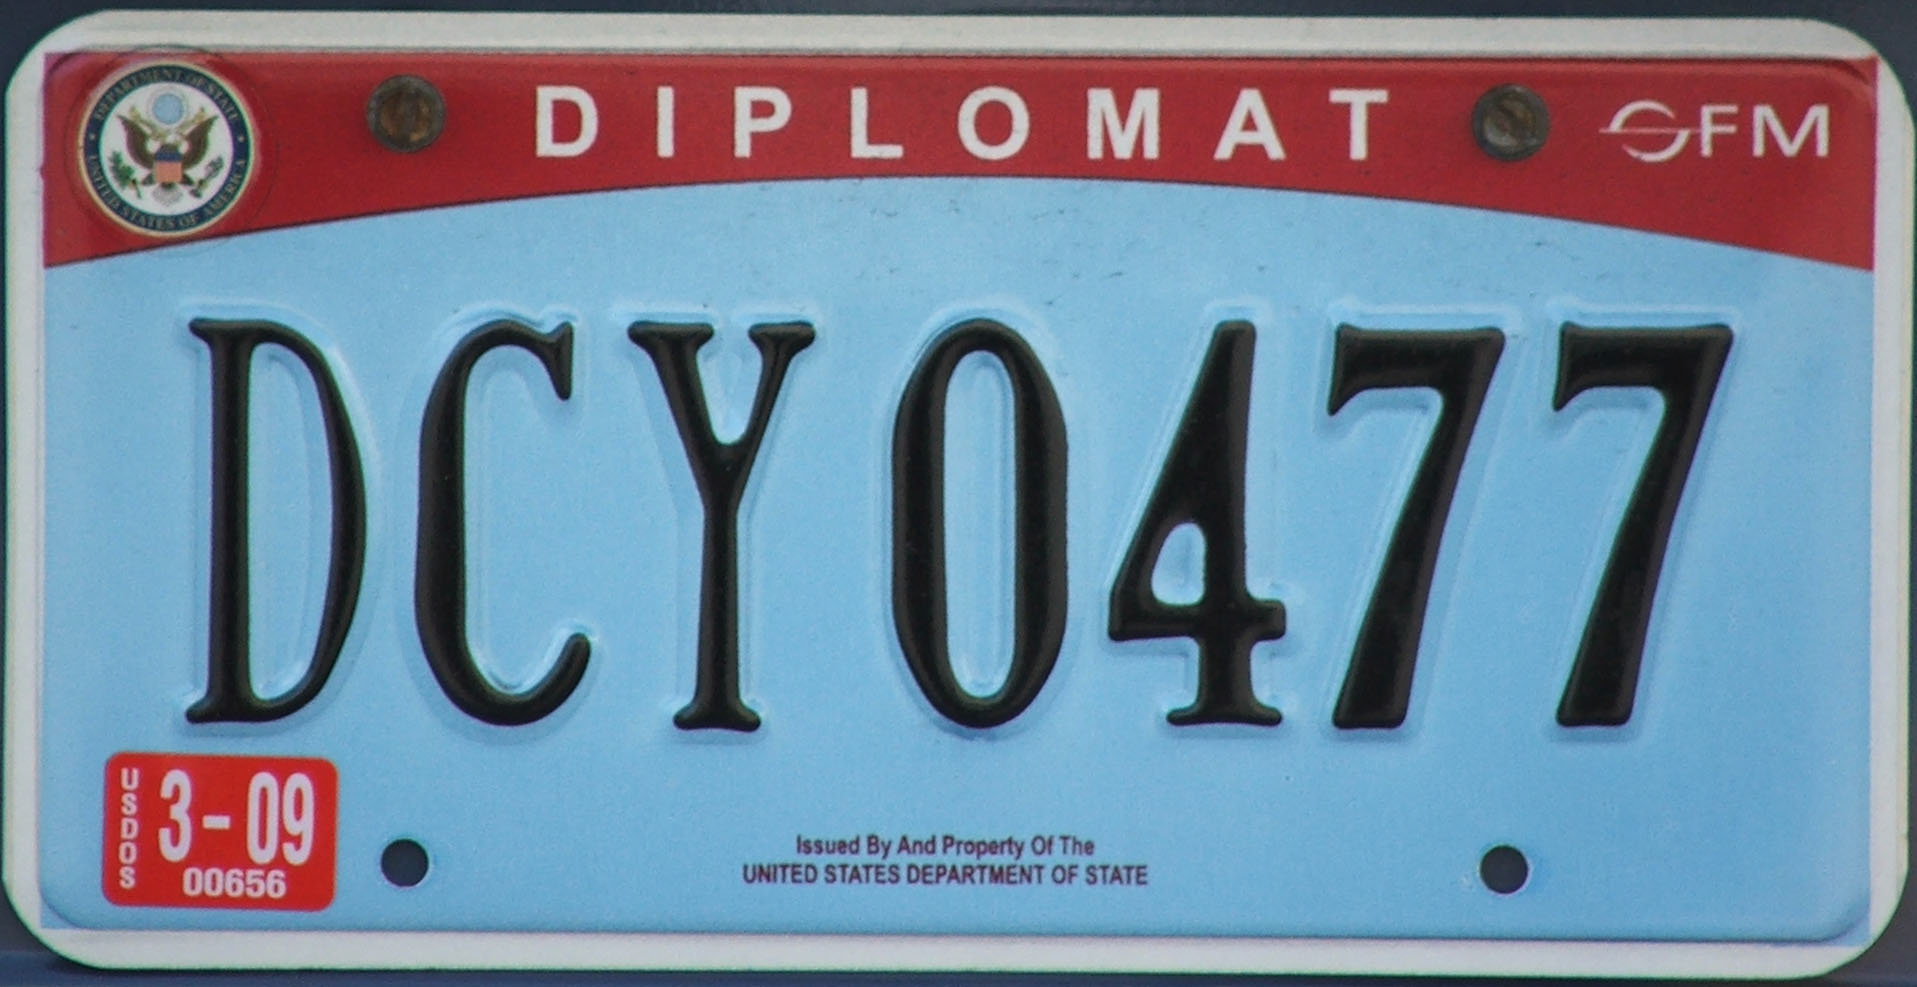number_plate: (21, 7, 1881, 954)
